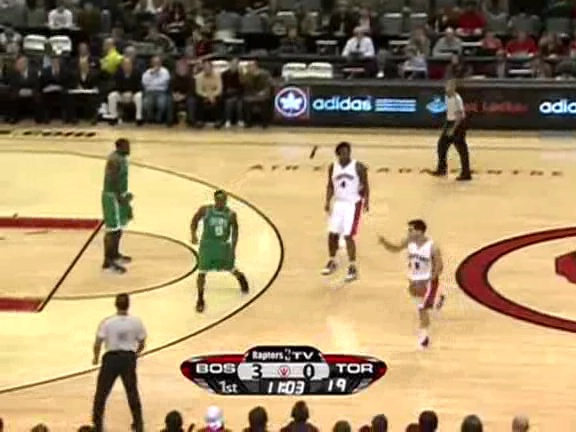person: (200, 203, 234, 284), (199, 203, 233, 284), (201, 203, 235, 284), (200, 202, 234, 283), (200, 204, 234, 285)
target_negative: (188, 246, 537, 354), (142, 126, 367, 240), (377, 221, 488, 320), (528, 103, 567, 270), (406, 110, 420, 340)
